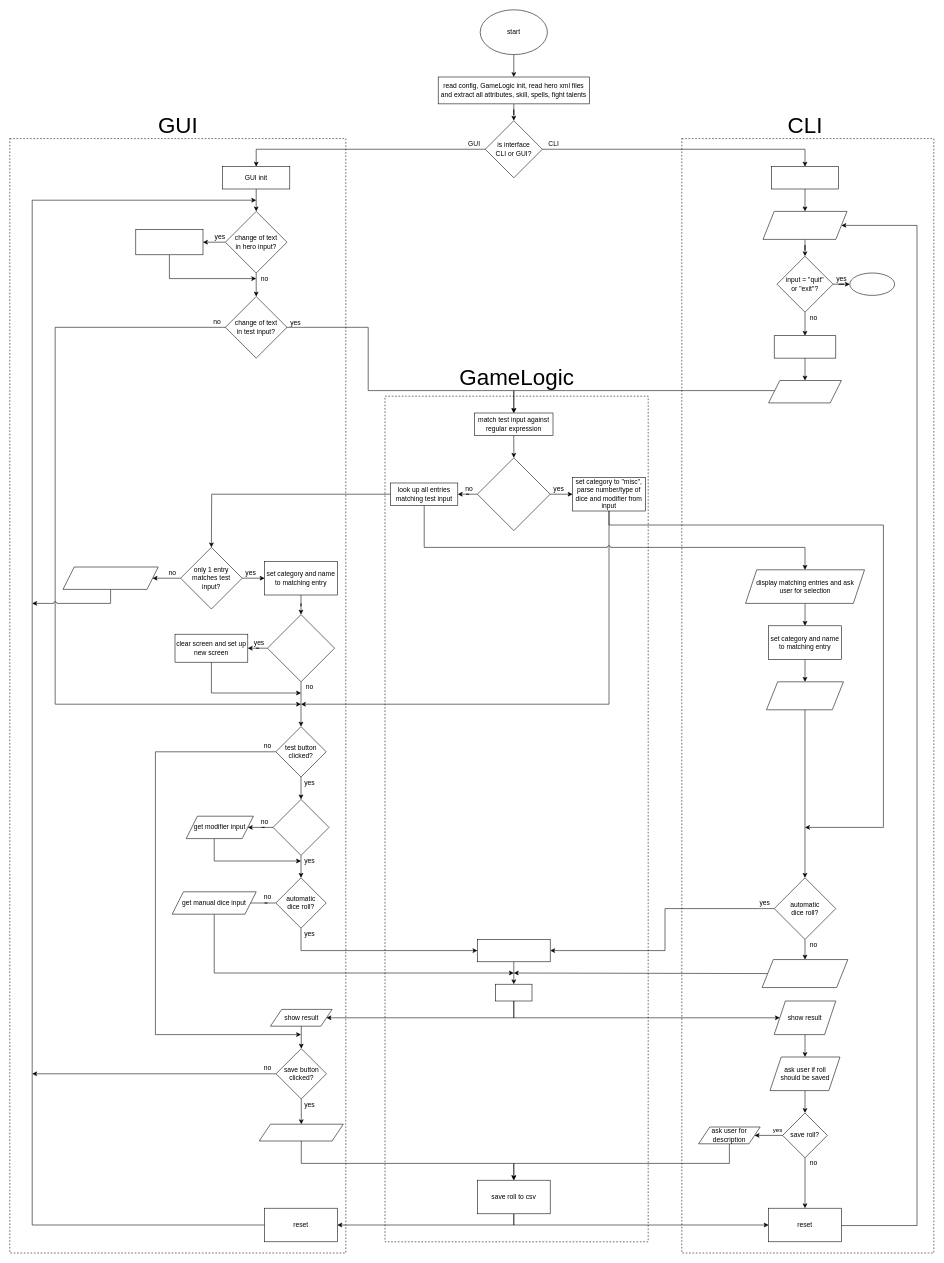
Some shapes in this 944 by 1263 pixel diagram are drawn without their labels. The shapes that lost their labels are listed below. From the top down, each one's centre as x and y in pixels, then its label:
the point at 805,177: CLI init
the point at 169,242: match hero input against hero xml files and set current hero
the point at 804,225: print roll number and ask for hero input
the point at 872,283: exit
the point at 805,346: set current hero
the point at 804,391: ask for test input
the point at 513,494: is test input a dice roll command?
the point at 110,577: display all matching inputs
the point at 301,648: new category different from last category?
the point at 804,695: set modifier based on user input
the point at 300,827: testing misc dice roll?
the point at 513,950: generate dice rolls
the point at 513,992: test
the point at 805,973: set dice rolls based on user input
the point at 301,1132: get description input
